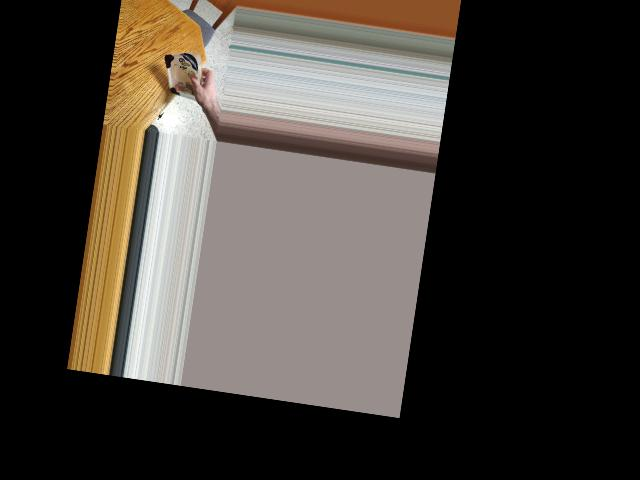cheese: (163, 47, 205, 103)
